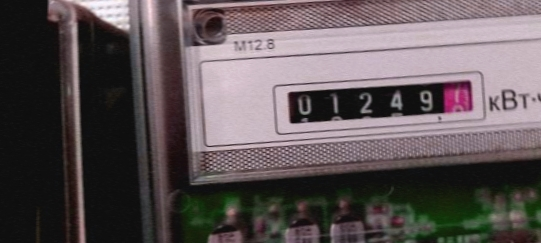0: (293, 91, 314, 118)
1: (325, 91, 342, 117)
2: (355, 91, 377, 118)
4: (388, 87, 407, 115)
7: (448, 82, 464, 107)
9: (417, 88, 436, 114)
screen: (264, 64, 501, 151)
